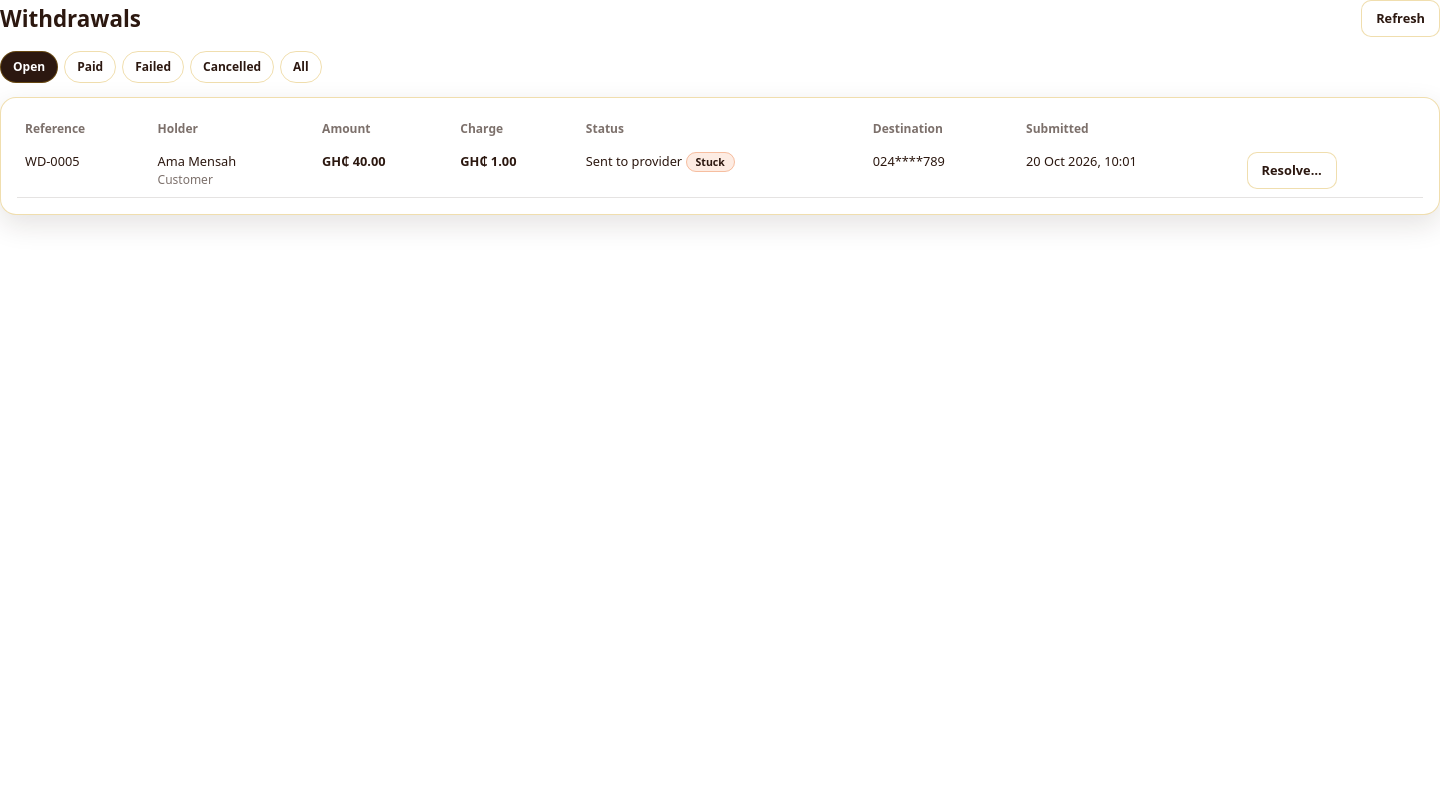
Test: Staff withdrawals queue › test_each_refusal_code_shows_its_server_detail (provider_unreachable)
Click the button "Resolve…" at (1292, 171), box 1247,152 -> 1337,189
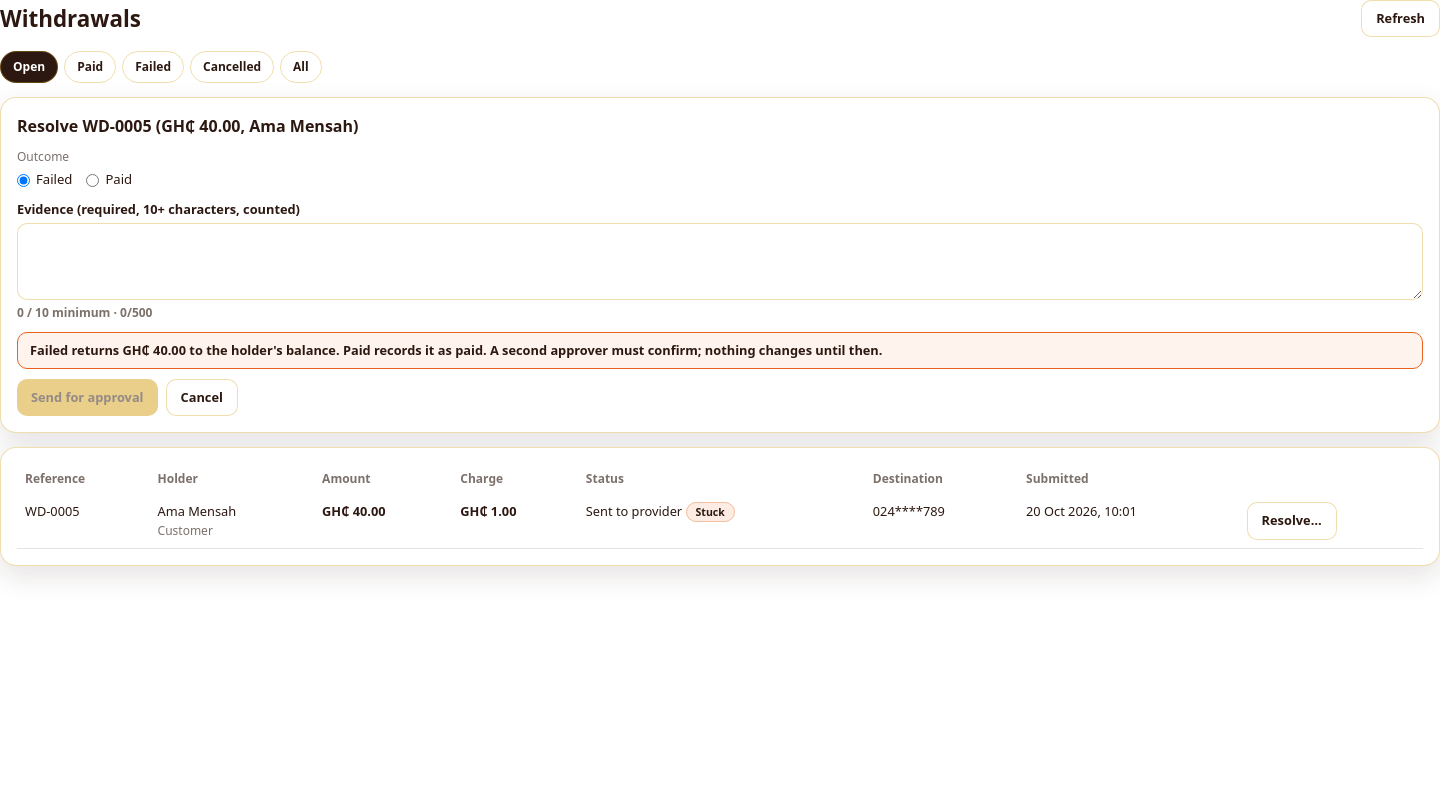
Type "Hubtel statement shows no payout for WD-0005" into the text box labelled "Evidence" at (720, 262), box 17,223 -> 1423,300
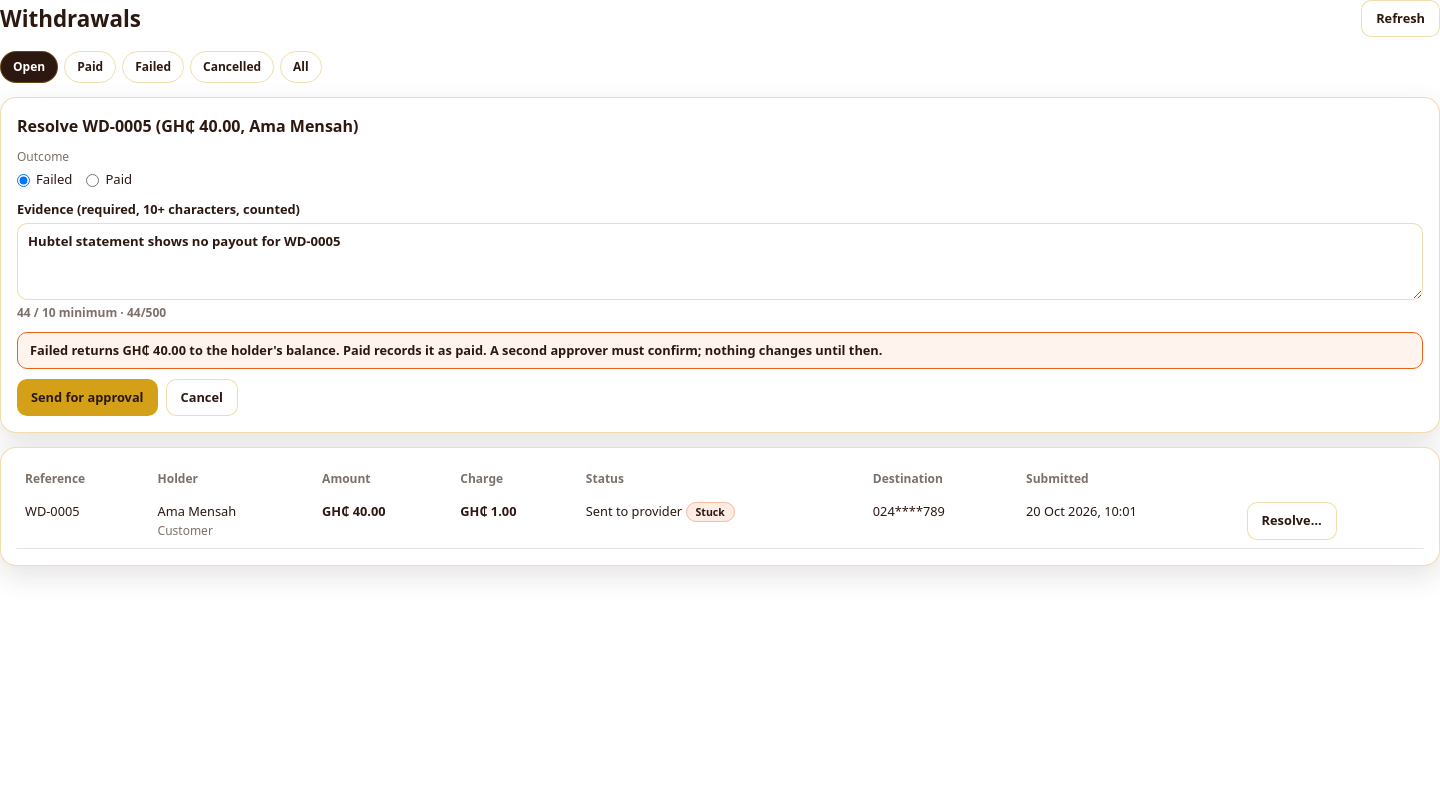
Click the button "Send for approval" at (87, 398), box 17,379 -> 158,416
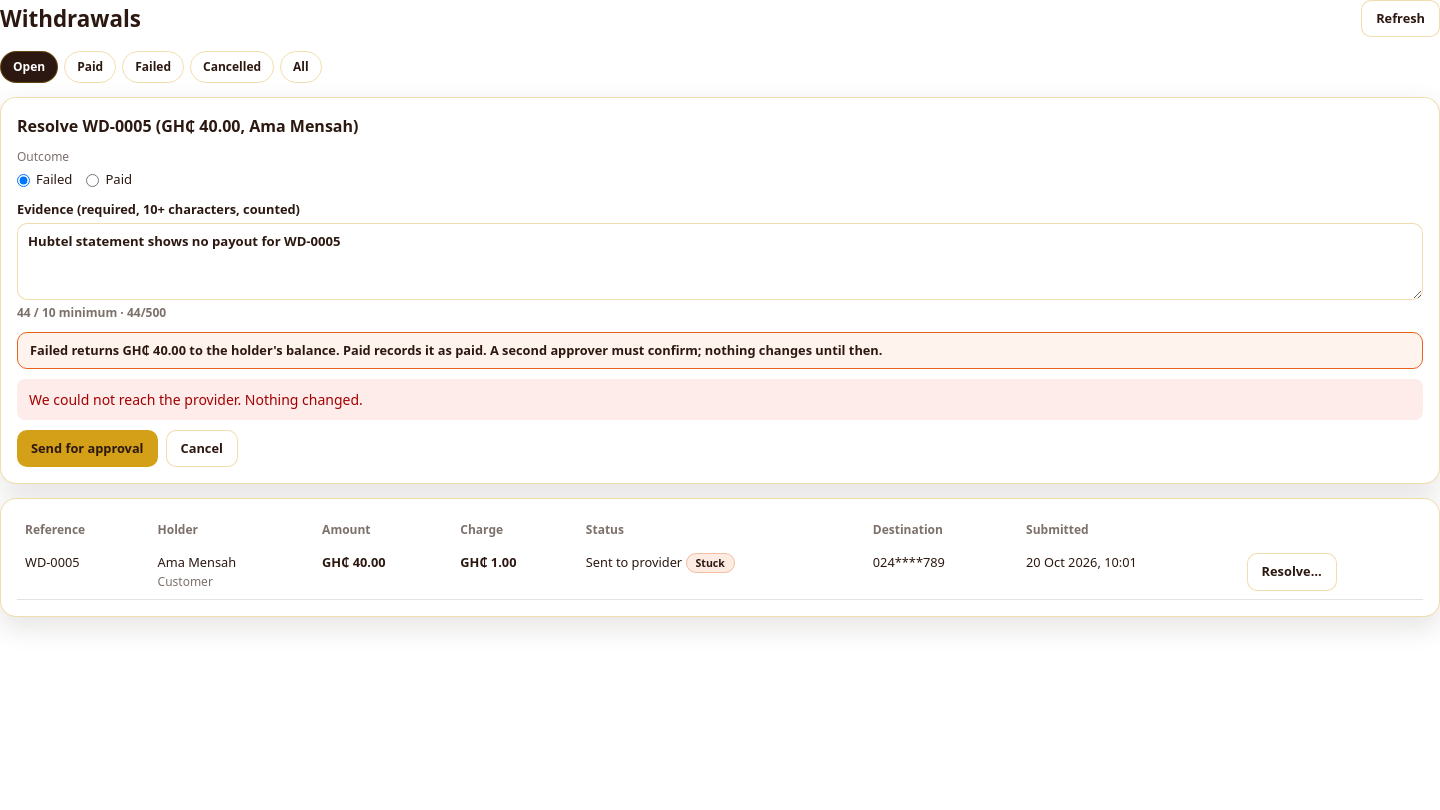
Result: the message reads "We could not reach the provider. Nothing changed." at 29,390 -> 363,409
